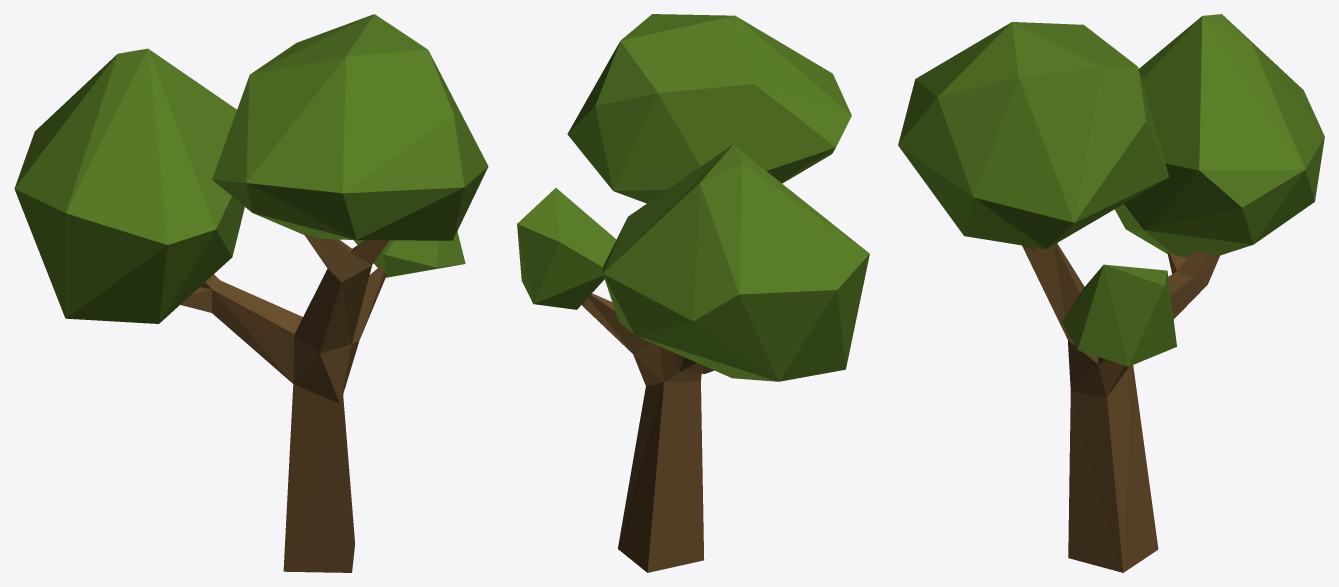
File: temp-decid.average.gltf
The picture shows the model from 3 angles, left to right: view 1: azimuth 30°, elevation 25°; view 2: azimuth 150°, elevation 25°; view 3: azimuth 270°, elevation 25°; orthographic projection. The views are drawn at different scales.
Visible parts, largest first — view 1: canopy, trunk; view 2: canopy, trunk; view 3: canopy, trunk.
Part boxes in pixels (left/top/right/bottom): canopy: left=14, top=14, right=488, bottom=323; trunk: left=180, top=233, right=389, bottom=572; canopy: left=517, top=14, right=869, bottom=381; trunk: left=582, top=293, right=713, bottom=572; canopy: left=898, top=14, right=1324, bottom=366; trunk: left=1022, top=243, right=1219, bottom=572.
Bounding box in the file's own units: 3.29 × 4.42 × 3.29.
